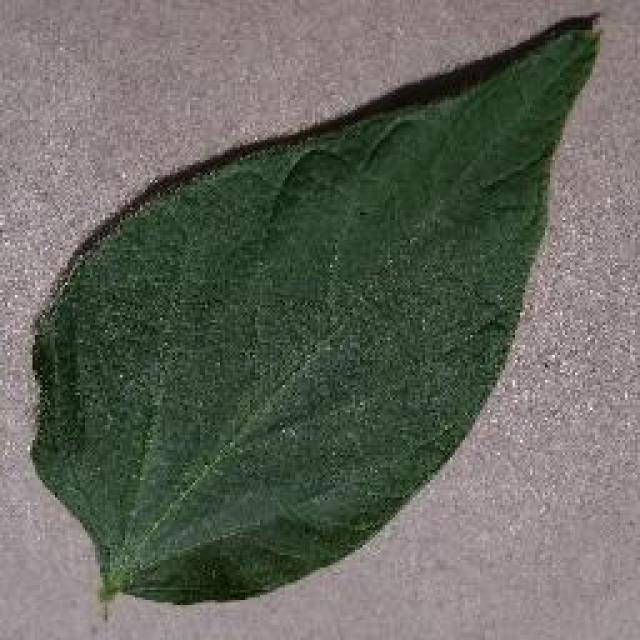Soy_healthy: (46, 114, 546, 574)
